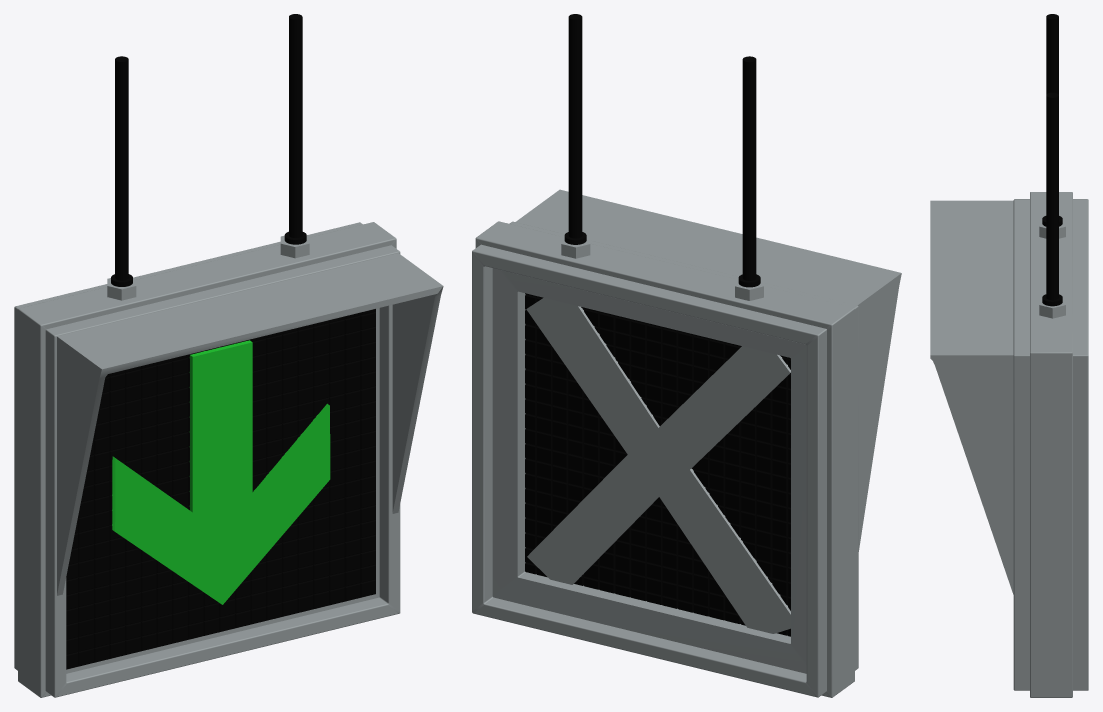
The model's file is tool.glb.
3 views of the same model, side by side, from view 1: azimuth 30°, elevation 25°; view 2: azimuth 150°, elevation 25°; view 3: azimuth 270°, elevation 25° (orthographic). The views are drawn at different scales.
Parts seen in each view (by area): view 1: 版.001_网格.028, 管道.3, go.002_网格.123, 管道.2, 柱体.036_柱体.038, 柱体.036_柱体; view 2: 管道.3, 管道.2, 版.001_网格.028, X, 柱体.036_柱体, 柱体.036_柱体.038; view 3: 管道.3, 管道.2, 柱体.036_柱体, 柱体.036_柱体.038, 圆柱.1.
Part boxes in pixels (x1,y1,x2,y2): 版.001_网格.028: (66, 309, 375, 669); 管道.3: (14, 222, 443, 697); go.002_网格.123: (112, 340, 330, 604); 管道.2: (18, 222, 396, 697); 柱体.036_柱体.038: (115, 56, 128, 280); 柱体.036_柱体: (289, 14, 302, 237); 管道.3: (472, 189, 901, 697); 管道.2: (475, 221, 854, 697); 版.001_网格.028: (525, 293, 790, 636); X: (526, 298, 790, 633); 柱体.036_柱体: (568, 14, 582, 238); 柱体.036_柱体.038: (742, 56, 756, 280); 管道.3: (930, 199, 1088, 690); 管道.2: (1030, 192, 1072, 697); 柱体.036_柱体: (1046, 92, 1058, 300); 柱体.036_柱体.038: (1046, 14, 1058, 94); 圆柱.1: (1039, 297, 1065, 318).
Size of the model in its own units: 0.7887 by 1.28 by 0.3281.
